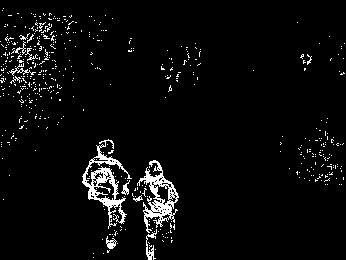person: (82, 138, 133, 251), (131, 159, 180, 260)
